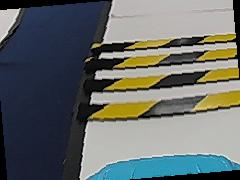bump: (85, 28, 236, 117)
